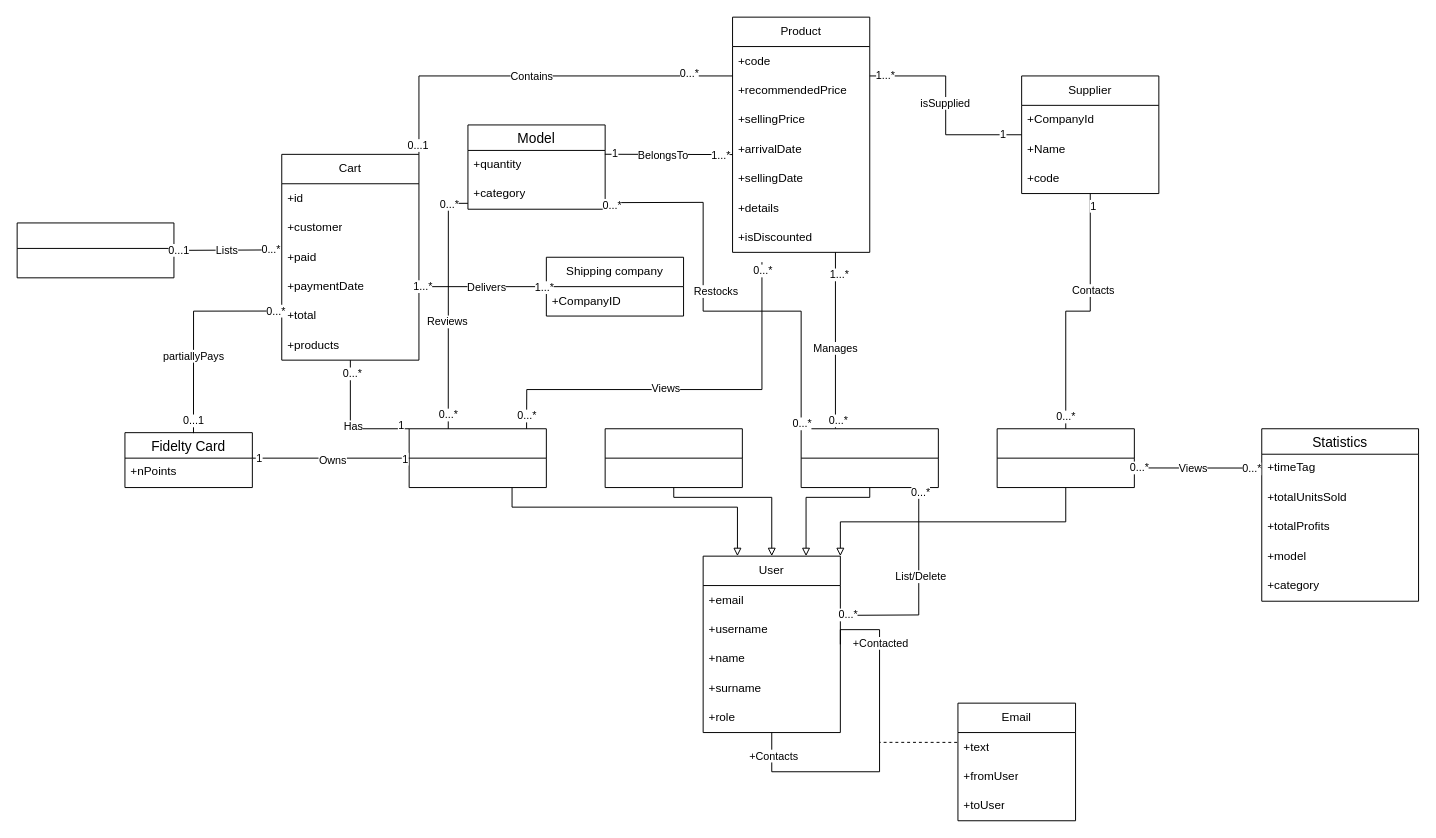
This 1436x838 diagram has some shape labels left out. Each missing label, with the centre of its shape:
"Cart History" goes at [95,250].
"Customer" goes at [477,458].
"CustomerSupport" goes at [673,458].
"IT Admin" goes at [869,458].
"Manager" goes at [1065,458].
